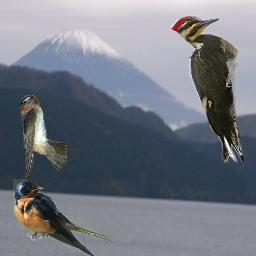Swallow: (13, 179, 114, 256), (19, 95, 67, 182)
Woodpecker: (170, 15, 246, 166)
